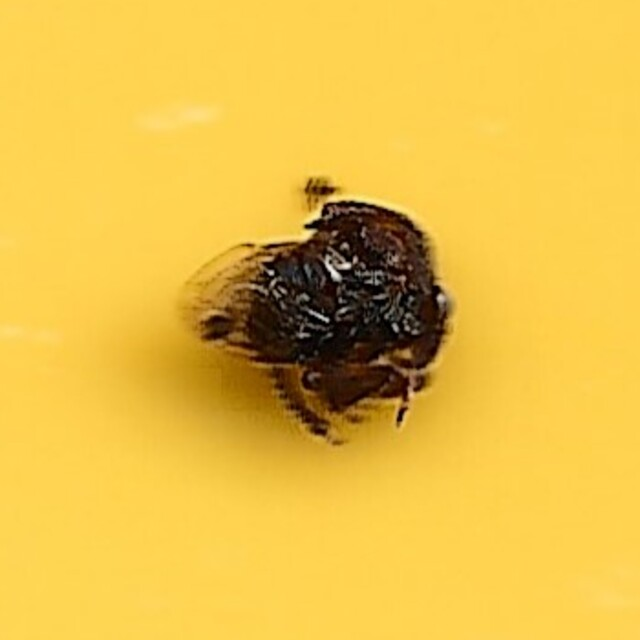Hemiptera: (183, 197, 457, 443)
